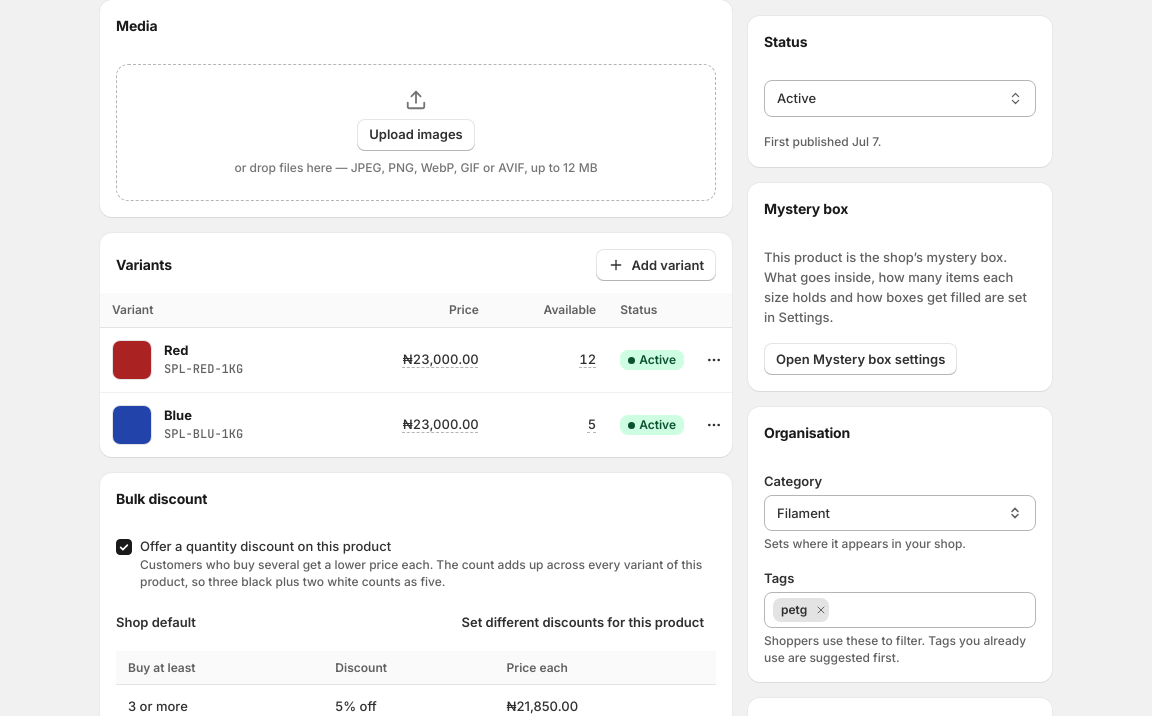
Test case: the product editor › offers no Delete in the row menu of a variant that has ever been ordered
Click the button named "Actions for SPL-RED-1KG". click: click(714, 360)
box: x1=696 y1=342 x2=732 y2=378
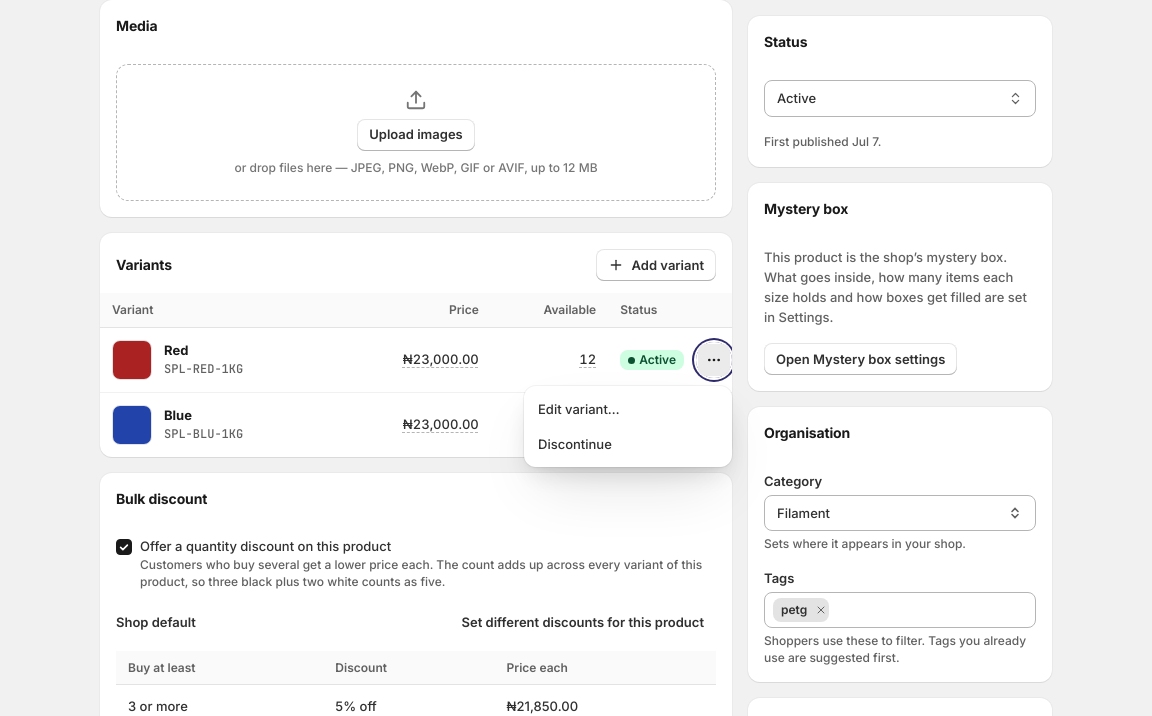
Expected: the menu item "Delete variant…" is not shown
Expected: the menu item "Edit variant…" is shown, x1=530 y1=392 x2=726 y2=427
Expected: the menu item "Discontinue" is shown, x1=530 y1=427 x2=726 y2=461
Press Escape
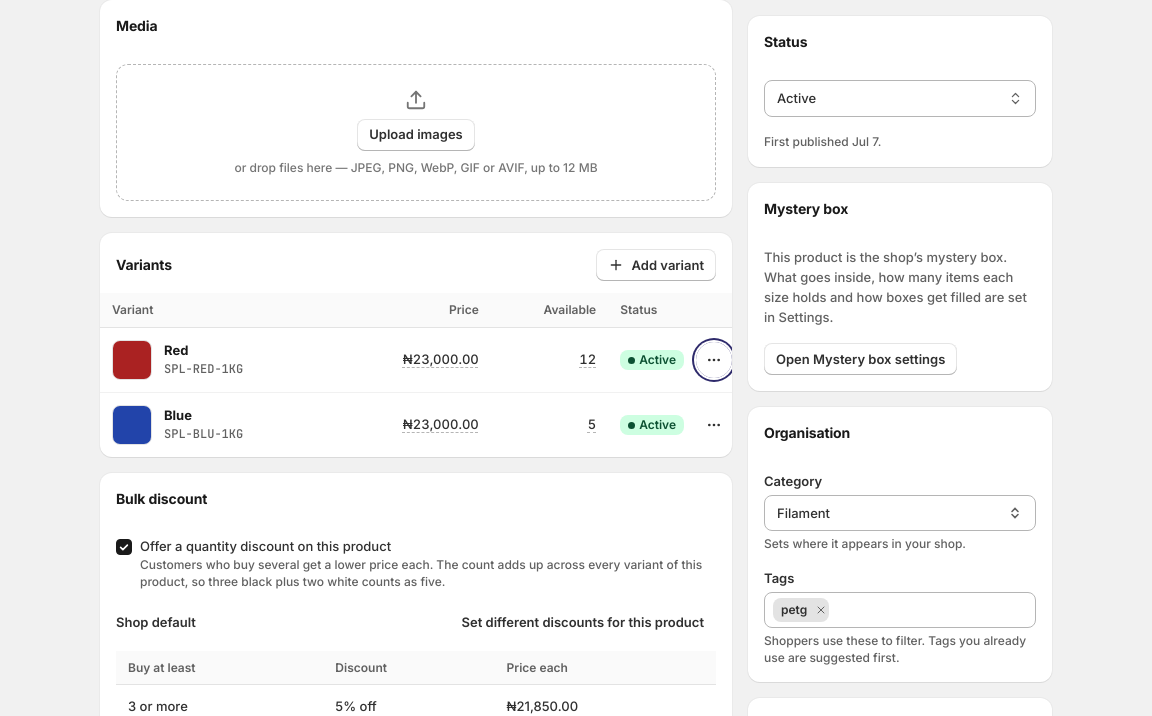
Expected: the menu is gone
Click the button named "Actions for SPL-BLU-1KG". click: click(714, 425)
box: x1=696 y1=407 x2=732 y2=443
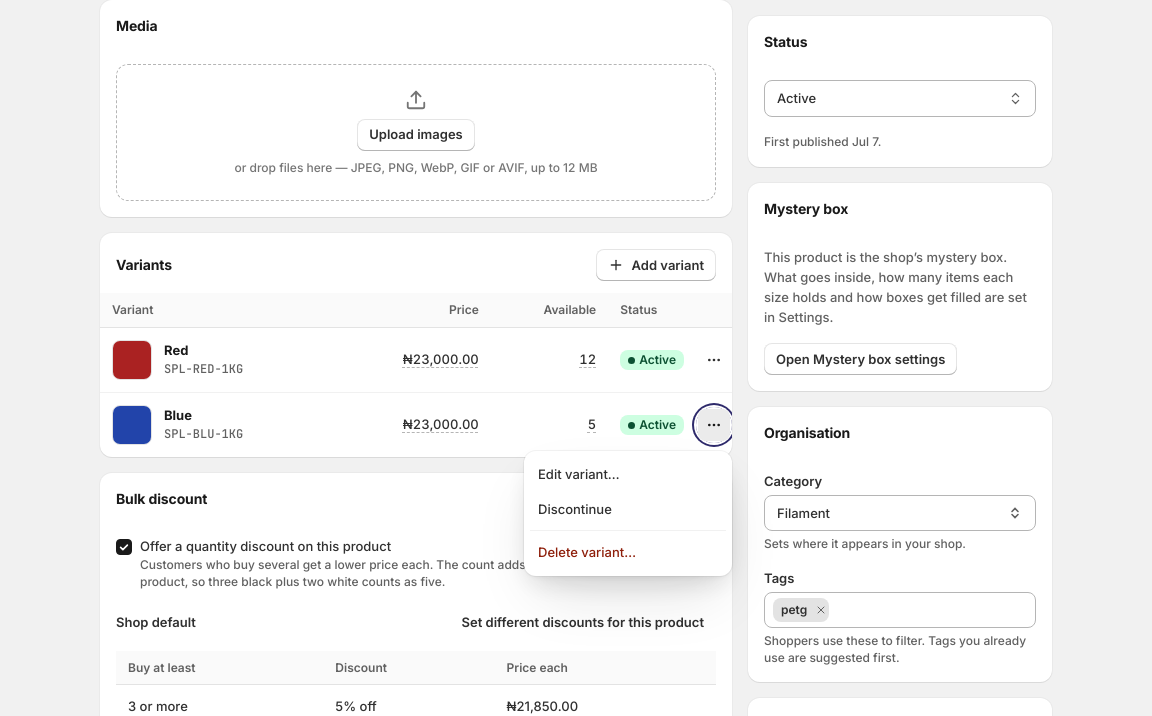
Expected: the menu item "Delete variant…" is shown, x1=530 y1=536 x2=726 y2=570
